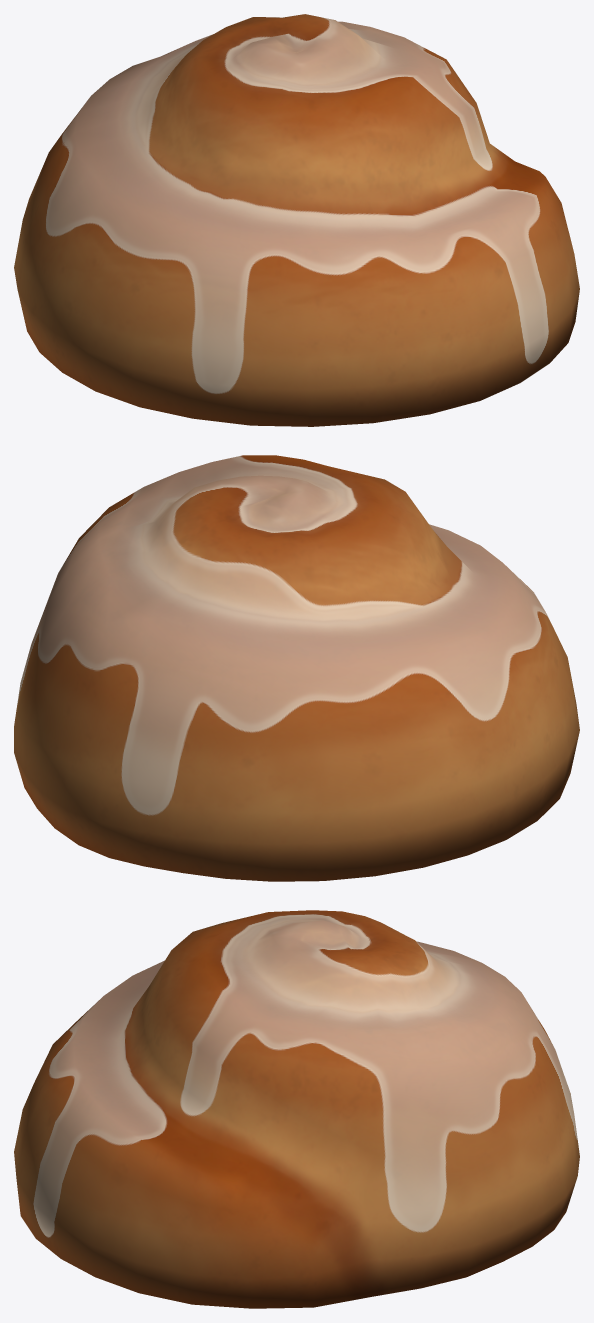
The model's file is pastries5.fbx.
3 views of the same model, one above another, from view 1: azimuth 30°, elevation 25°; view 2: azimuth 150°, elevation 25°; view 3: azimuth 270°, elevation 25° (orthographic). The views are drawn at different scales.
Parts seen in each view (by area): view 1: pastries5; view 2: pastries5; view 3: pastries5.
Boxes of the visible parts, x1,y1,x2,y2 form: pastries5: (14, 14, 579, 426); pastries5: (14, 455, 579, 881); pastries5: (14, 910, 579, 1308).
Bounding box in the file's own units: 6769 × 3732 × 6948.
Materials: 1 (1 with a texture image).
